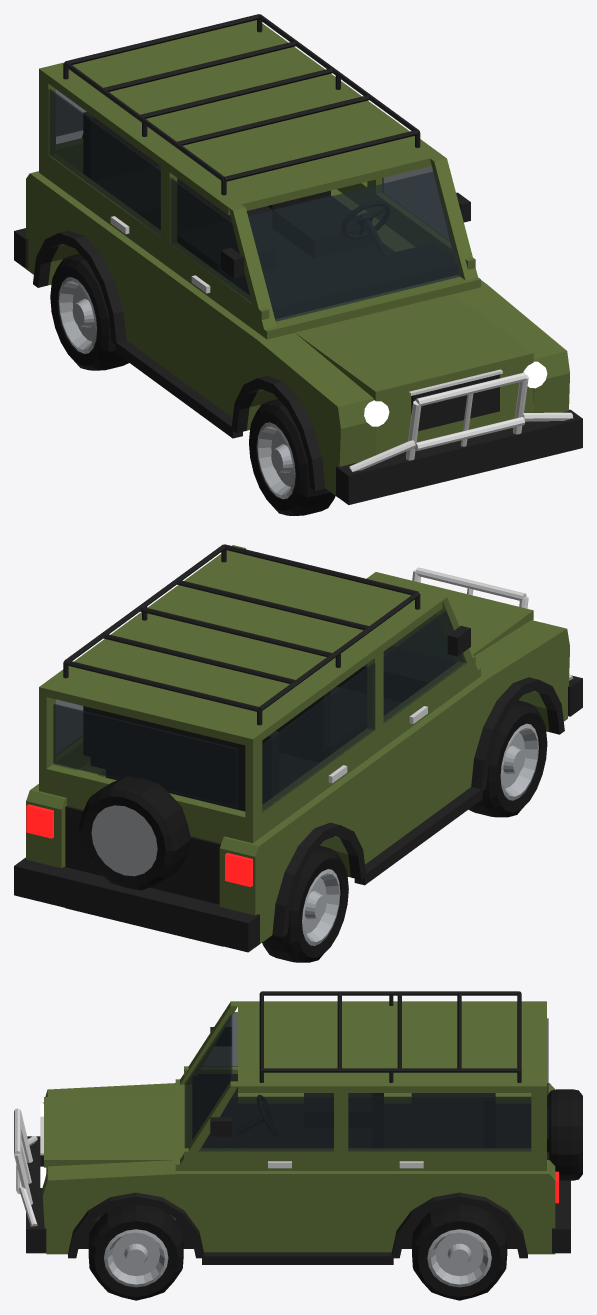
File: offroad_4x4.glb
3 renders of one model, top to bottom at view 1: azimuth 30°, elevation 25°; view 2: azimuth 150°, elevation 25°; view 3: azimuth 270°, elevation 25°, orthographic. The views are drawn at different scales.
Visible parts, largest first — view 1: Body, Wheel_FR, Wheel_RR, SteeringWheel; view 2: Body, Wheel_RR, Wheel_FR; view 3: Body, Wheel_FL, Wheel_RL, SteeringWheel.
Part boxes in pixels (x1,y1,x2,y2): Body: (14, 14, 582, 504); Wheel_FR: (249, 399, 335, 515); Wheel_RR: (50, 253, 128, 370); SteeringWheel: (341, 201, 389, 239); Body: (14, 544, 582, 952); Wheel_RR: (262, 845, 348, 962); Wheel_FR: (468, 700, 547, 817); Body: (14, 991, 582, 1264); Wheel_FL: (88, 1204, 183, 1300); Wheel_RL: (412, 1204, 507, 1300); SteeringWheel: (257, 1094, 278, 1135).
Size of the model in its own units: 1.96 by 2.07 by 4.75.
